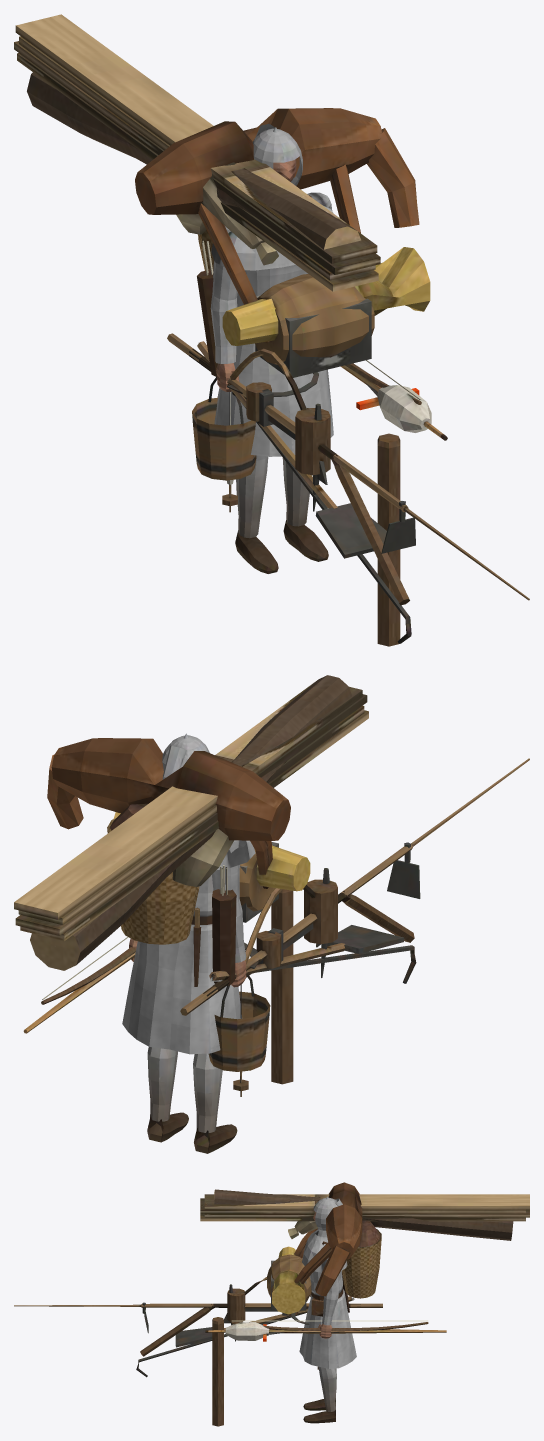
File: villager.glb
3 views of the same model, one above another, from view 1: azimuth 30°, elevation 25°; view 2: azimuth 150°, elevation 25°; view 3: azimuth 270°, elevation 25° (orthographic). The views are drawn at different scales.
Visible parts, largest first — view 1: villager_LOD0; view 2: villager_LOD0; view 3: villager_LOD0.
Boxes of the visible parts, left/top/right/bottom form: villager_LOD0: left=14, top=14, right=529, bottom=646; villager_LOD0: left=14, top=675, right=529, bottom=1153; villager_LOD0: left=14, top=1182, right=529, bottom=1426.
Size of what is drawn, in the model's own units: 1.13 by 1.84 by 3.81.
Materials: 1 (1 with a texture image).
